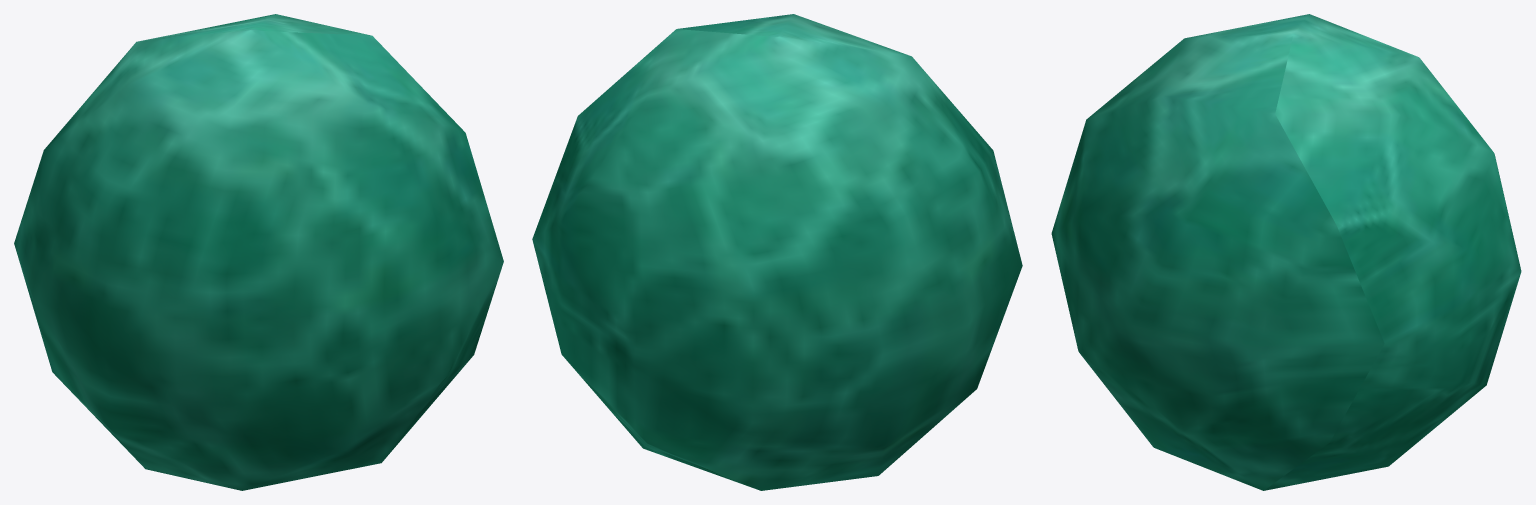
The model's file is sage-orb.glb.
The picture shows the model from 3 angles, left to right: view 1: azimuth 30°, elevation 25°; view 2: azimuth 150°, elevation 25°; view 3: azimuth 270°, elevation 25°; orthographic projection. The views are drawn at different scales.
Visible parts, largest first — view 1: 0002_TP_Thorne_S0_Skelmesh.mo_TP_Thorne_S0_Orb_MI_0; view 2: 0002_TP_Thorne_S0_Skelmesh.mo_TP_Thorne_S0_Orb_MI_0; view 3: 0002_TP_Thorne_S0_Skelmesh.mo_TP_Thorne_S0_Orb_MI_0.
Part boxes in pixels (box(x1,y1,x2,y2)): 0002_TP_Thorne_S0_Skelmesh.mo_TP_Thorne_S0_Orb_MI_0: box(14, 14, 503, 490); 0002_TP_Thorne_S0_Skelmesh.mo_TP_Thorne_S0_Orb_MI_0: box(532, 14, 1022, 490); 0002_TP_Thorne_S0_Skelmesh.mo_TP_Thorne_S0_Orb_MI_0: box(1051, 14, 1521, 490).
Size of the model in its own units: 0.117 by 0.118 by 0.117.
Materials: 1 (1 with a texture image).
